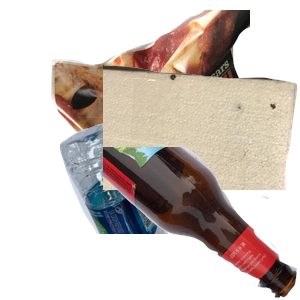glass: (103, 147, 300, 300)
paper: (49, 10, 289, 190)
plastic: (57, 120, 284, 300)
trash: (103, 62, 300, 242)
